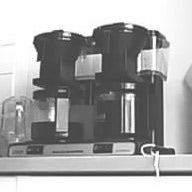not empty coffee: (25, 84, 89, 147), (92, 81, 152, 145)
